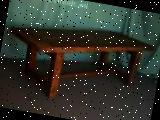Mesa: (0, 13, 152, 113)
